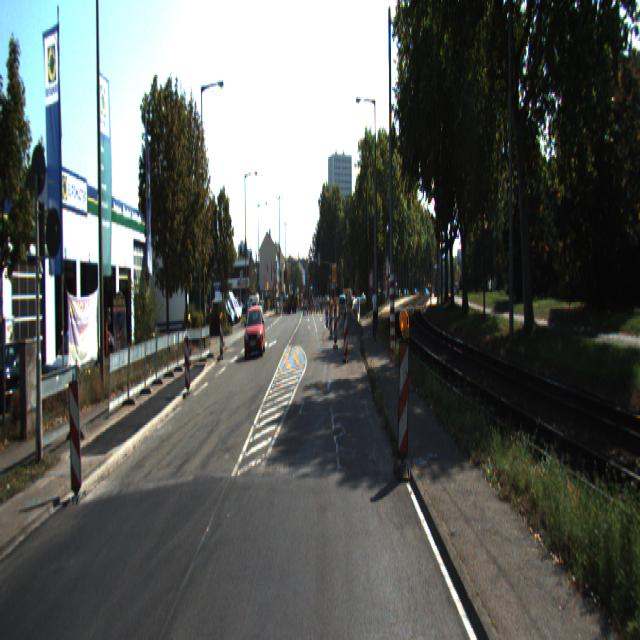Car: (243, 306, 267, 359)
